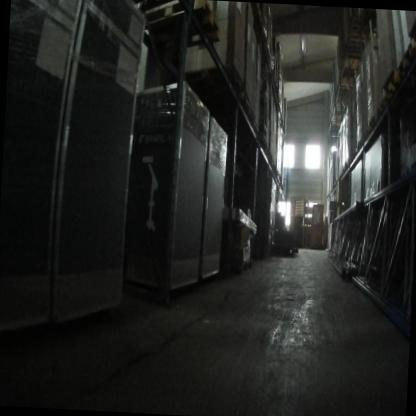pallet: (141, 0, 222, 50), (396, 43, 415, 78), (382, 70, 400, 99), (374, 99, 387, 122), (410, 11, 416, 51), (240, 92, 250, 113), (256, 133, 268, 148), (361, 126, 369, 143), (356, 138, 362, 152), (330, 188, 332, 193), (327, 191, 329, 196)
